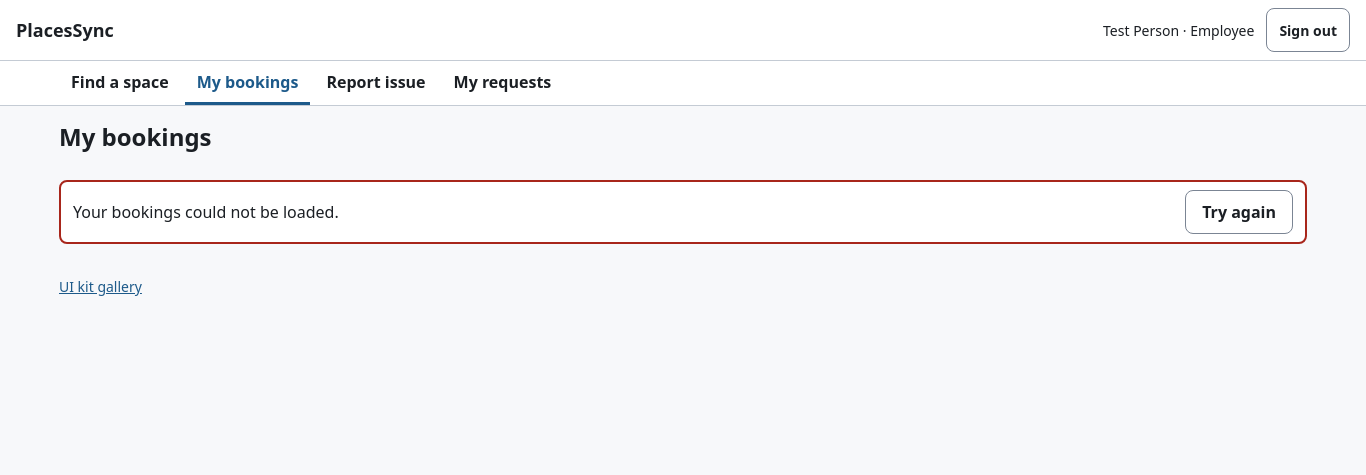
Test: My bookings (SPEC 14.1) › after a failed load shows only the error and Try again, which reloads the list
Expected: the message shows "Your bookings could not be loaded.", [73,201,339,223]
Step 1. Click the button "Try again" → (1239, 212), box [1185,190,1293,234]
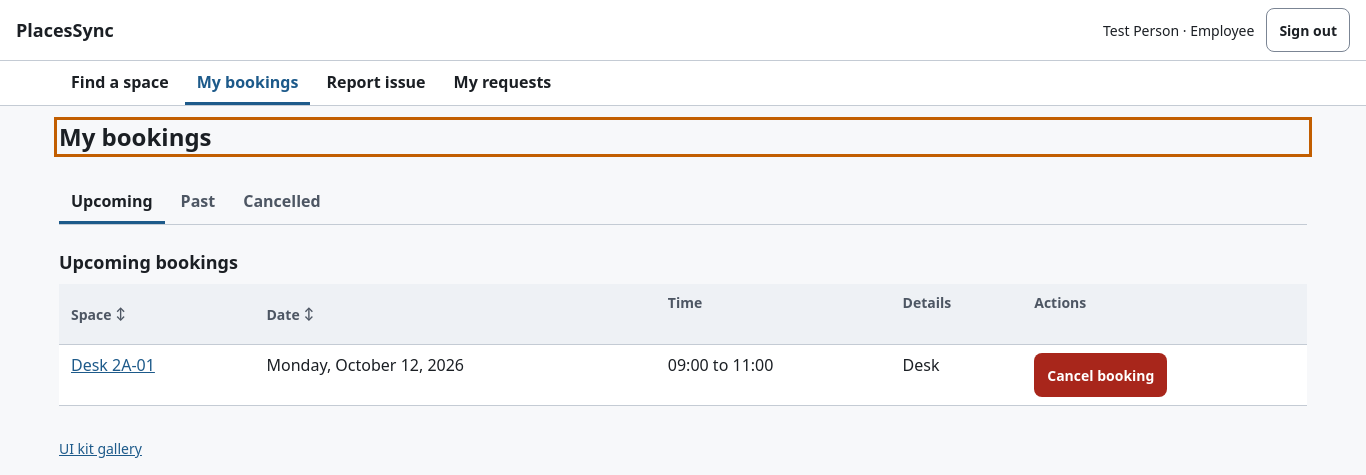
Now the message "Your bookings could not be loaded. Try again" is gone
